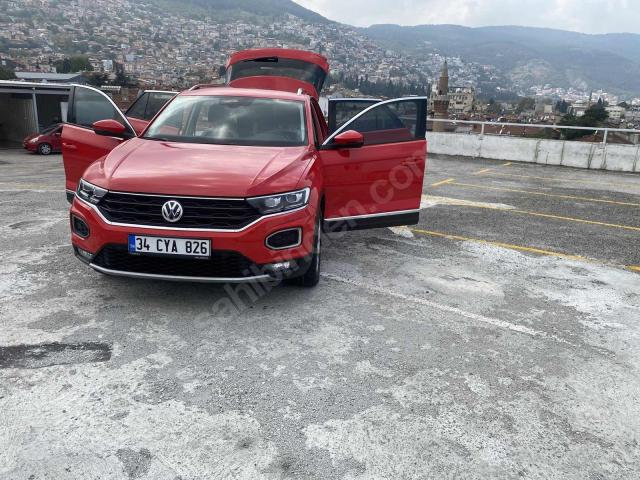plaka: (129, 235, 210, 256)
